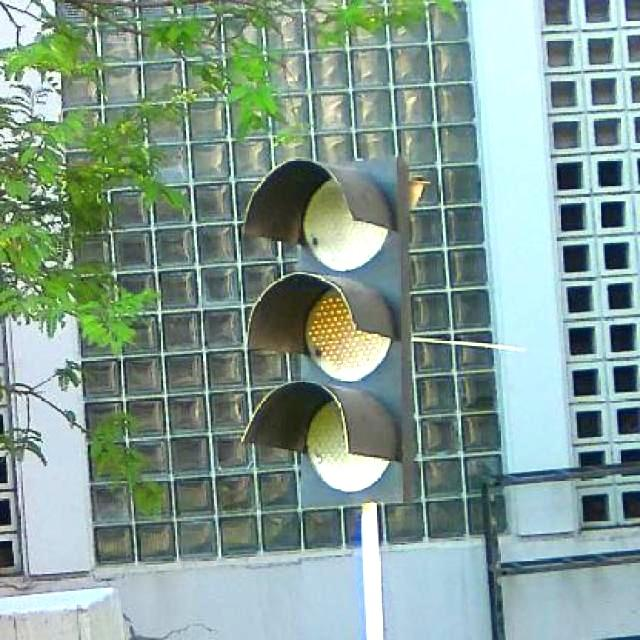Yellow: (249, 140, 419, 513)
